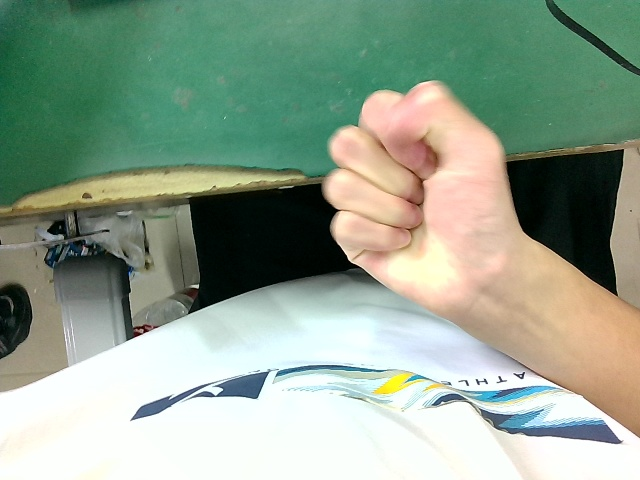stone: (310, 73, 525, 331)
